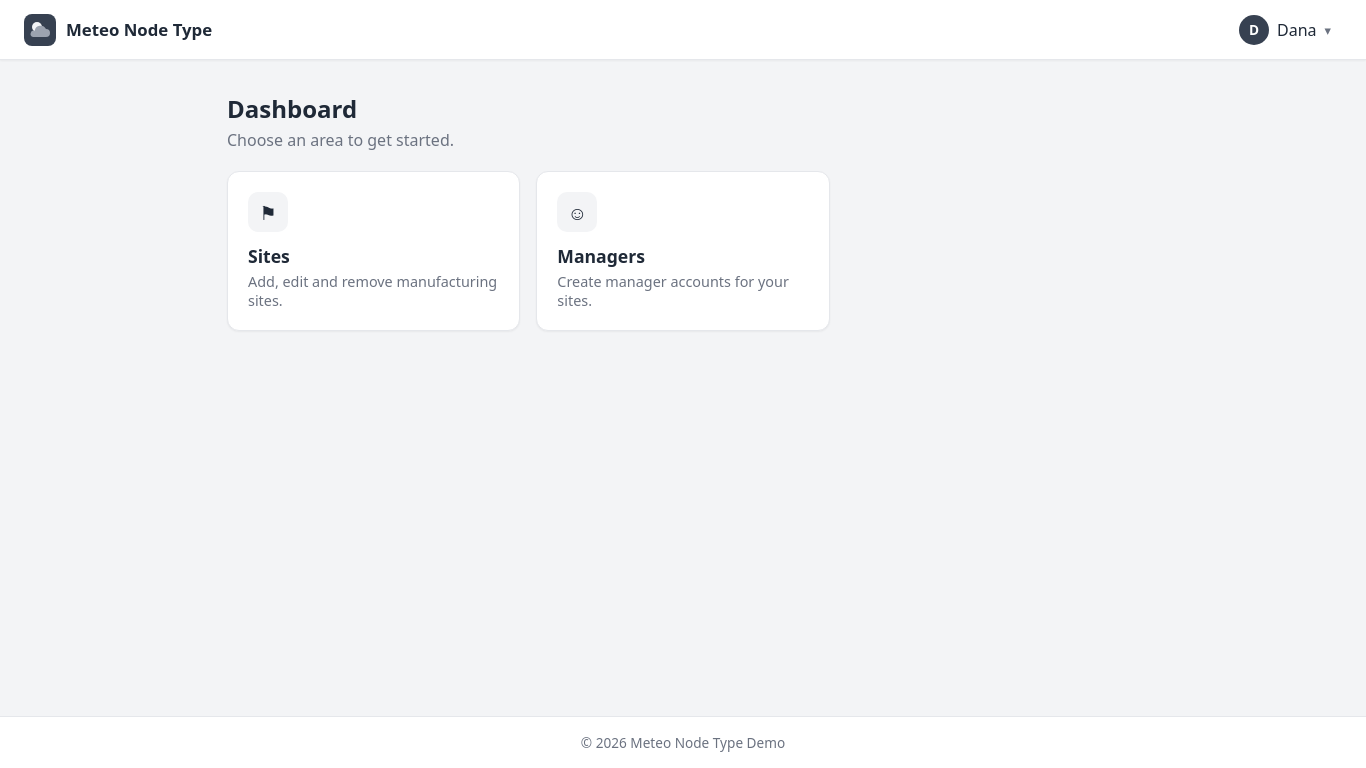
Test: App › returns to sign-in after logging out
What coordinates should you click on to do the following:
click the button "D Dana ▾"
I would click on:
 (1285, 30)
Its box is [1228, 8, 1342, 52].
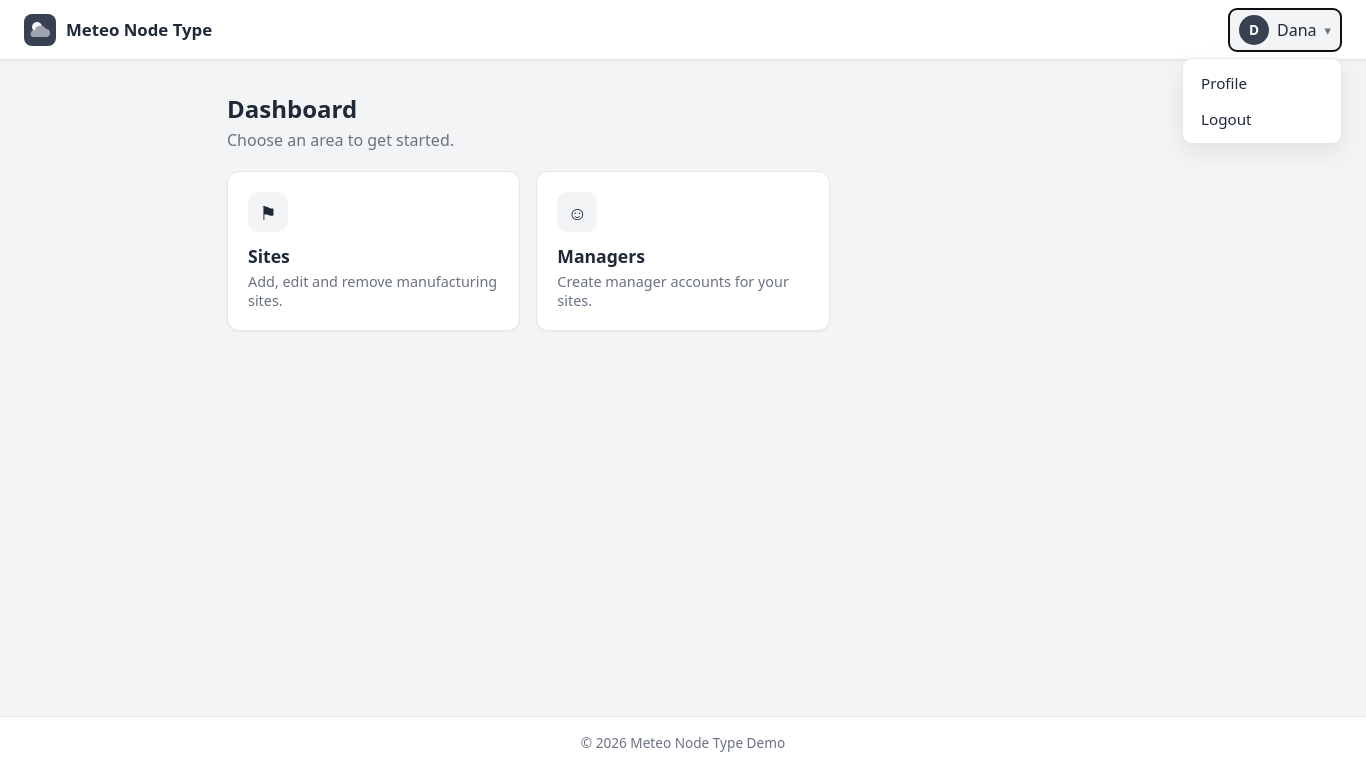
What coordinates should you click on to do the following:
click the menu item "Logout"
I would click on:
 (1262, 118)
Its box is [1189, 100, 1335, 136].
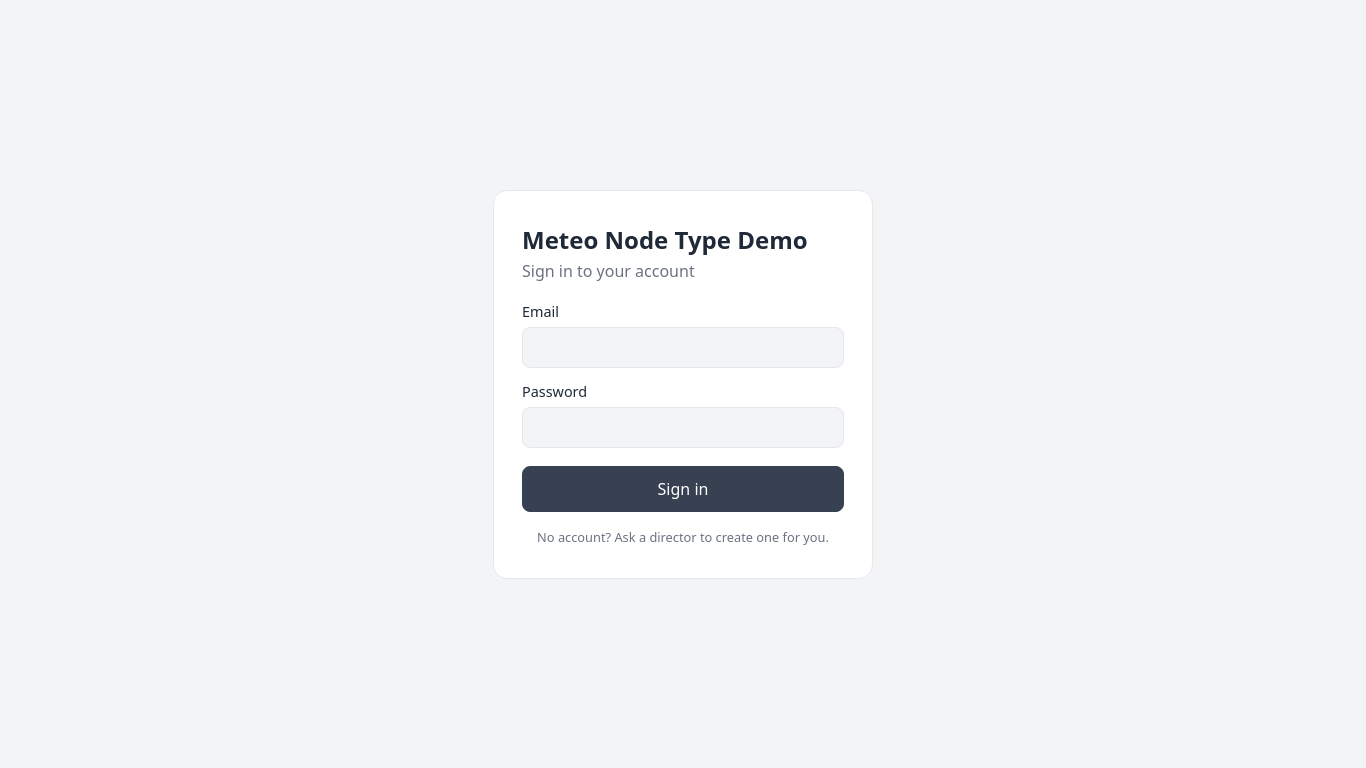
Expected: the text "Sign in to your account" is shown, [522, 260, 695, 282]
